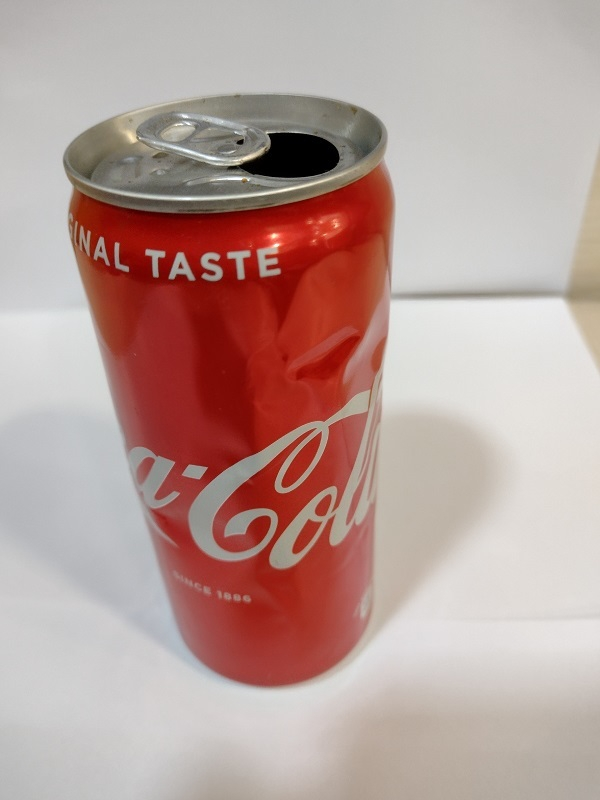can: (42, 76, 404, 704)
